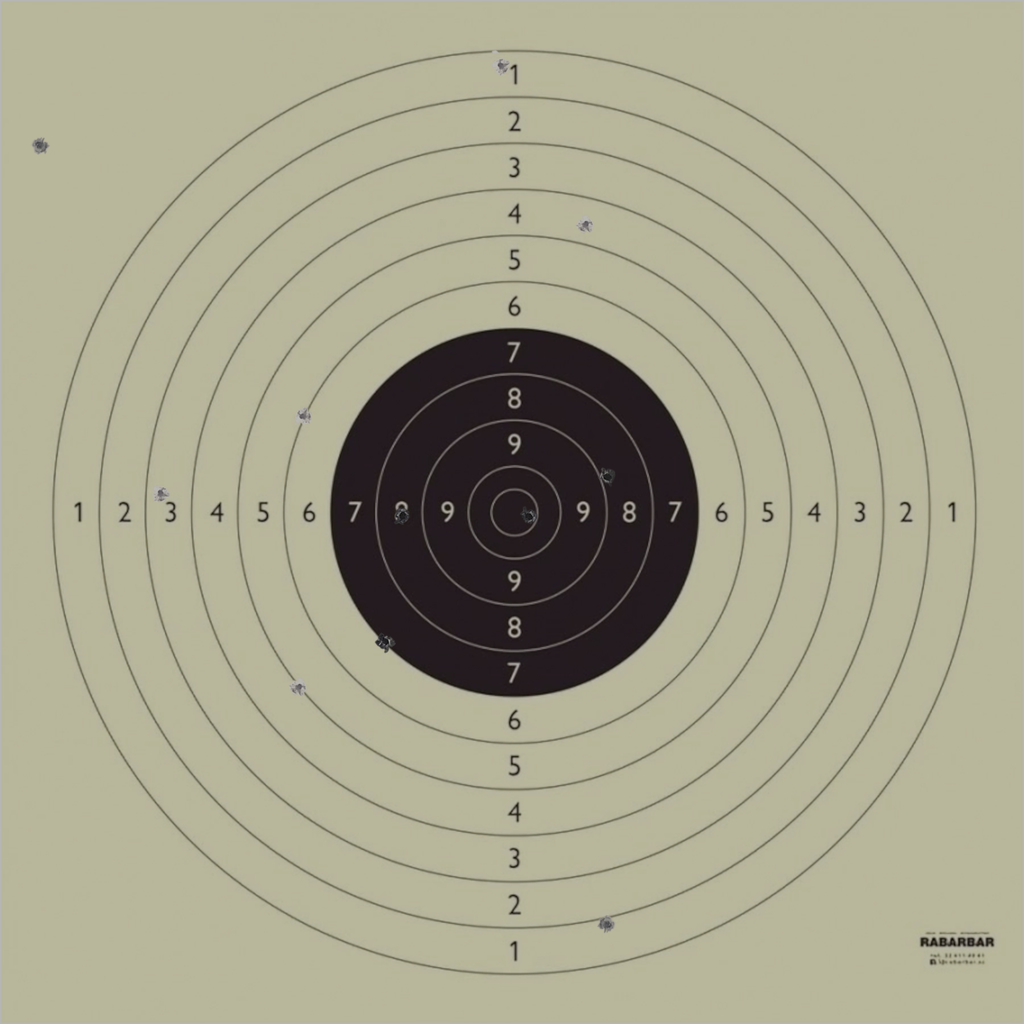0 punktow: (31, 136, 49, 155)
1 punkt: (492, 57, 510, 75)
10 punktow: (520, 507, 538, 525)
2 punkty: (598, 915, 616, 934)
3 punkty: (152, 484, 170, 503)
4 punkty: (577, 215, 595, 234)
5 punktow: (290, 678, 308, 697)
6 punktow: (294, 407, 312, 425)
7 punktow: (376, 632, 394, 651)
8 punktow: (393, 507, 412, 525)
9 punktow: (598, 468, 616, 486)
